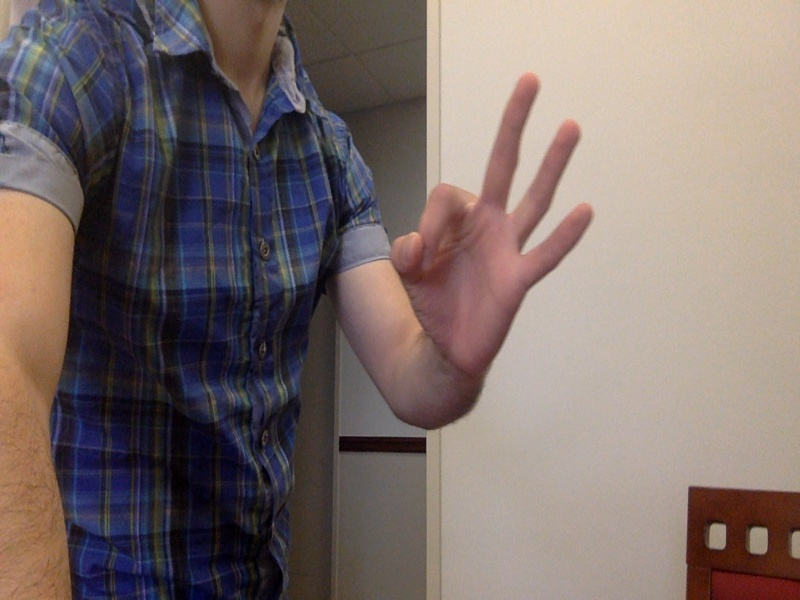3-hand: (390, 73, 597, 371)
